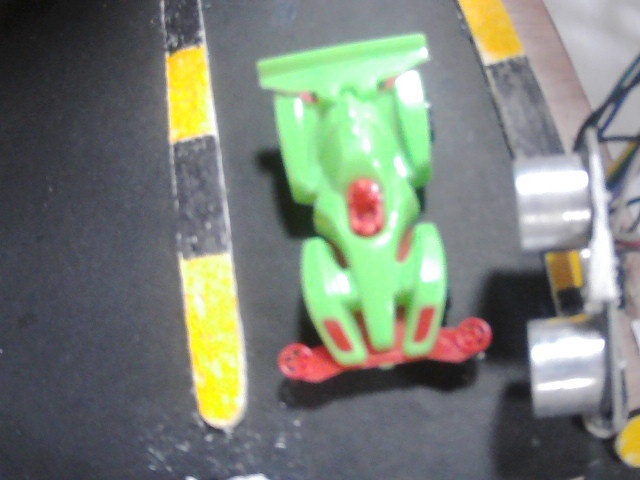car: (258, 26, 508, 399)
uno_breadboard: (508, 142, 640, 431)
